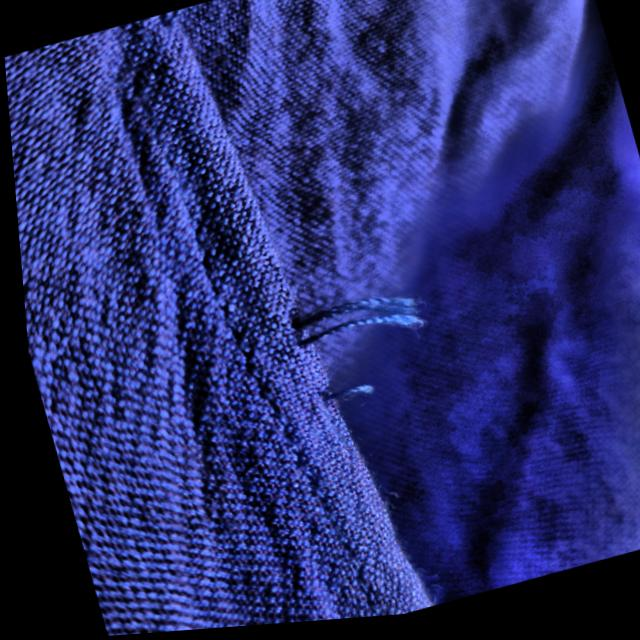Stitch: (268, 239, 466, 443)
